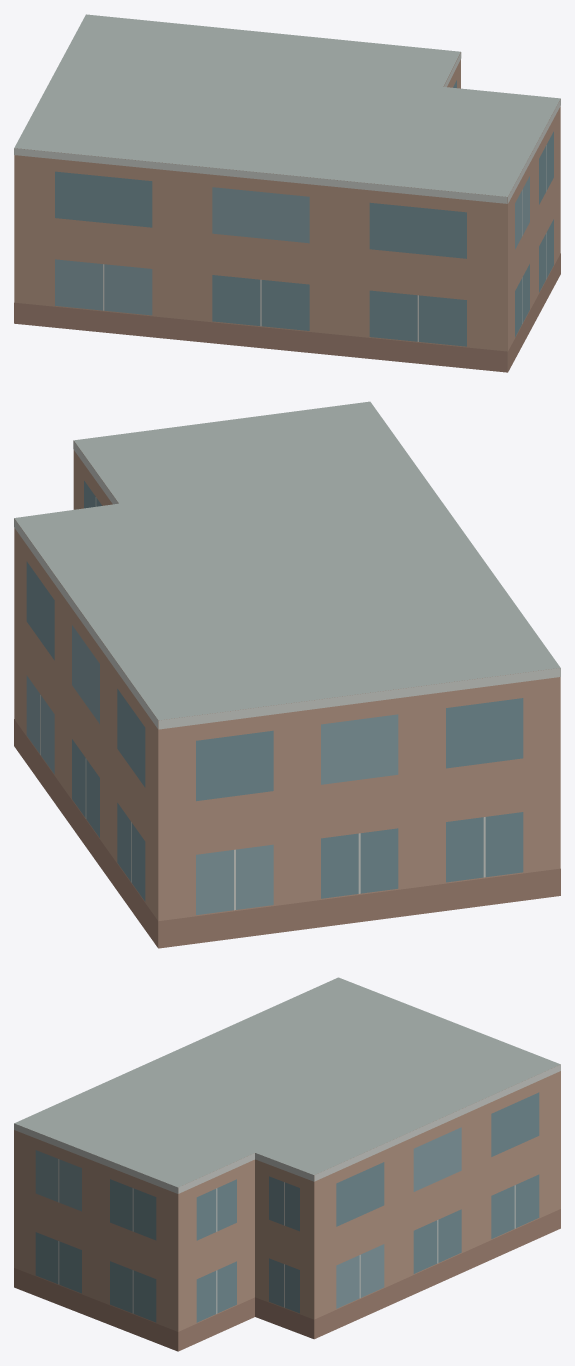
Rendered from survey-upis-32718467.glb.
The picture shows the model from 3 angles, top to bottom: view 1: azimuth 30°, elevation 25°; view 2: azimuth 150°, elevation 25°; view 3: azimuth 270°, elevation 25°; orthographic projection. The views are drawn at different scales.
Visible parts, largest first — view 1: survey-upis-32718467.tmp; view 2: survey-upis-32718467.tmp; view 3: survey-upis-32718467.tmp.
Boxes of the visible parts, x1,y1,x2,y2 form: survey-upis-32718467.tmp: (14, 14, 560, 372); survey-upis-32718467.tmp: (14, 401, 560, 948); survey-upis-32718467.tmp: (14, 977, 560, 1351).
Bounding box in the file's own units: 16.77 × 6.1 × 18.43.
